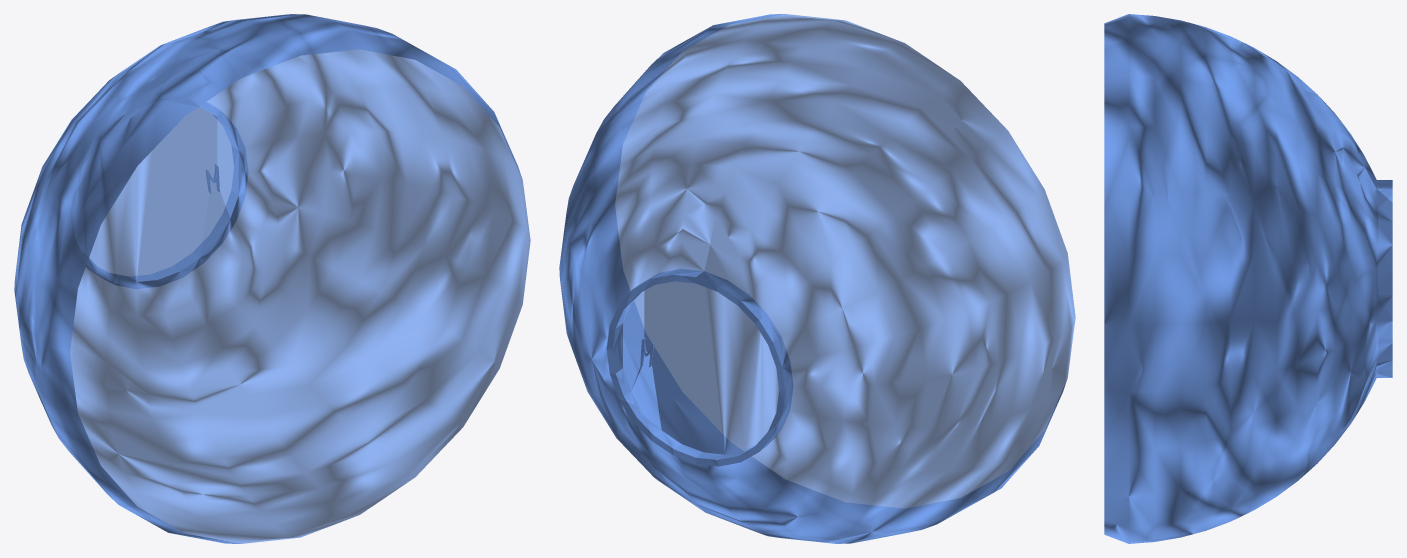
The model's file is model_align.obj.
3 renders of one model, left to right at view 1: azimuth 30°, elevation 25°; view 2: azimuth 150°, elevation 25°; view 3: azimuth 270°, elevation 25°, orthographic. The views are drawn at different scales.
Bounding box in the file's own units: 0.1413 × 0.1413 × 0.0766.
